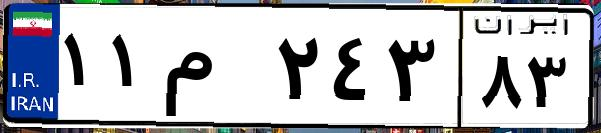1: (57, 26, 110, 100), (110, 28, 158, 98)
2: (270, 28, 330, 110)
3: (385, 28, 445, 110), (525, 38, 570, 115)
4: (330, 28, 385, 110)
8: (475, 38, 525, 113)
م: (158, 20, 270, 120)
